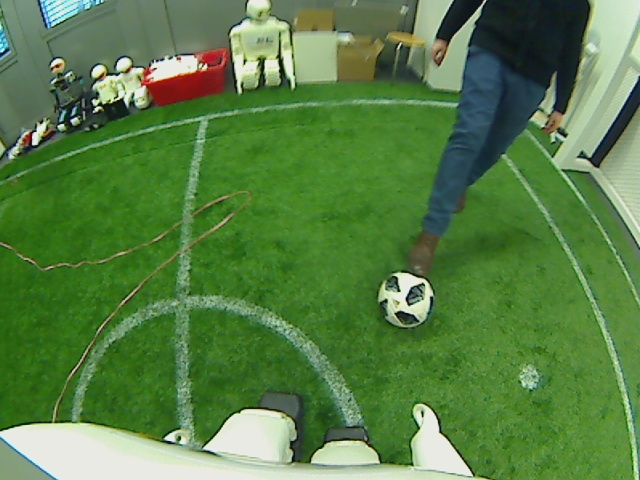ball: (376, 270, 437, 328)
